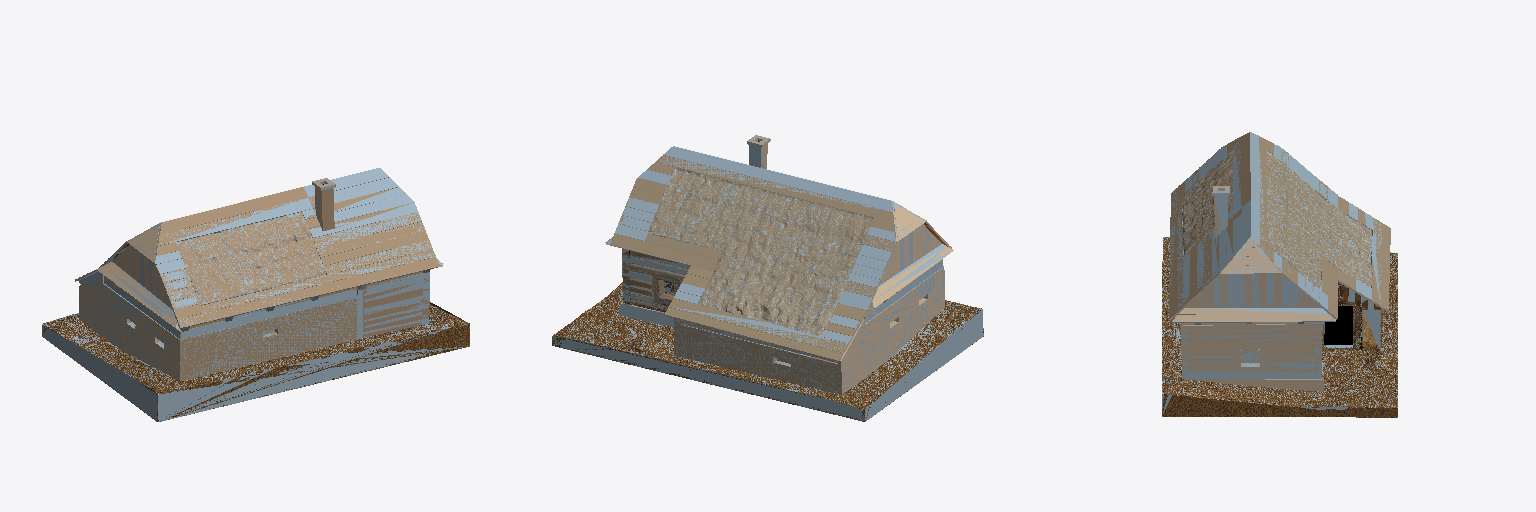
3 views of the same model, side by side, from view 1: azimuth 30°, elevation 25°; view 2: azimuth 150°, elevation 25°; view 3: azimuth 270°, elevation 25° (orthographic).
Parts seen in each view (by area): view 1: Mesh6 Model, Mesh1 Group1 Model, Mesh4 Group4 Model; view 2: Mesh6 Model, Mesh5 Group5 Model, Mesh1 Group1 Model; view 3: Mesh6 Model, Mesh1 Group1 Model, Mesh5 Group5 Model, Mesh4 Group4 Model.
Boxes of the visible parts, x1=… form: Mesh6 Model: x1=75, y1=168, x2=442, y2=381; Mesh1 Group1 Model: x1=42, y1=302, x2=469, y2=421; Mesh4 Group4 Model: x1=176, y1=212, x2=326, y2=305; Mesh6 Model: x1=605, y1=135, x2=953, y2=394; Mesh5 Group5 Model: x1=648, y1=167, x2=873, y2=336; Mesh1 Group1 Model: x1=552, y1=282, x2=983, y2=421; Mesh6 Model: x1=1169, y1=132, x2=1390, y2=391; Mesh1 Group1 Model: x1=1162, y1=237, x2=1397, y2=417; Mesh5 Group5 Model: x1=1267, y1=151, x2=1372, y2=290; Mesh4 Group4 Model: x1=1182, y1=150, x2=1233, y2=254.
Size of the model in its own units: 404 by 209 by 263.
13 materials, 6 textured.